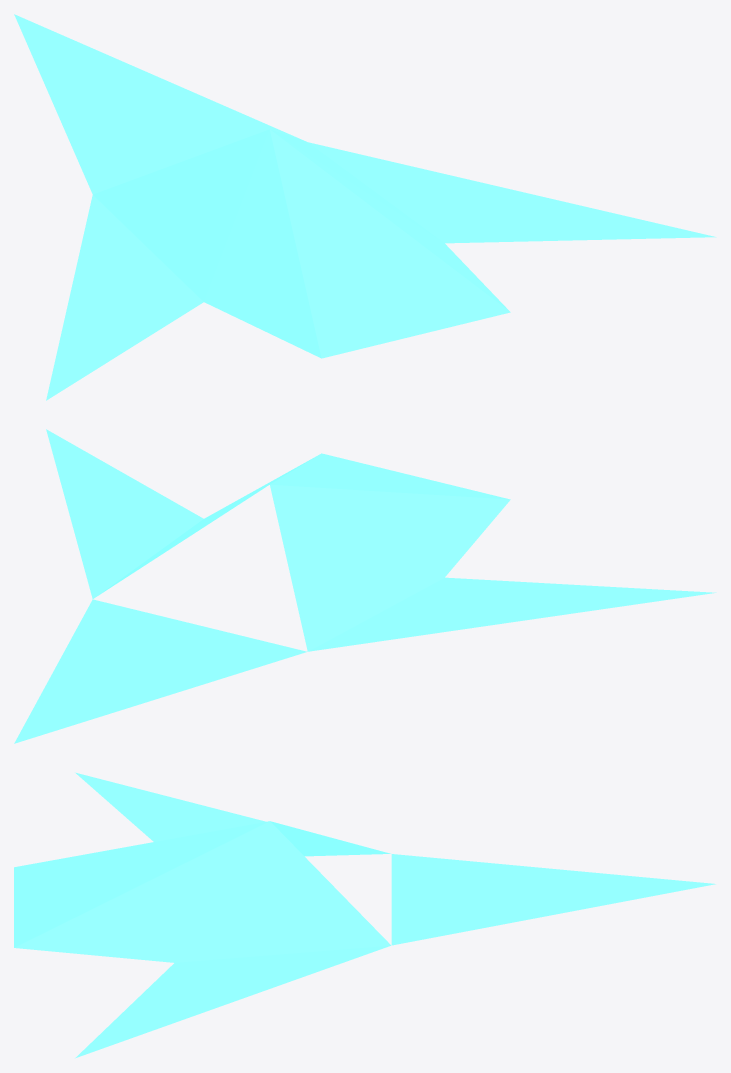
Rendered from p1_small.glb.
The picture shows the model from 3 angles, top to bottom: view 1: azimuth 30°, elevation 25°; view 2: azimuth 150°, elevation 25°; view 3: azimuth 270°, elevation 25°; orthographic projection. The views are drawn at different scales.
Visible parts, largest first — view 1: QA_scout; view 2: QA_scout; view 3: QA_scout.
Boxes of the visible parts, <box> form: QA_scout: <box>14,14,716,400</box>; QA_scout: <box>14,429,716,743</box>; QA_scout: <box>14,772,715,1058</box>.
Size of the model in its own units: 1.56 by 0.24 by 1.62.
